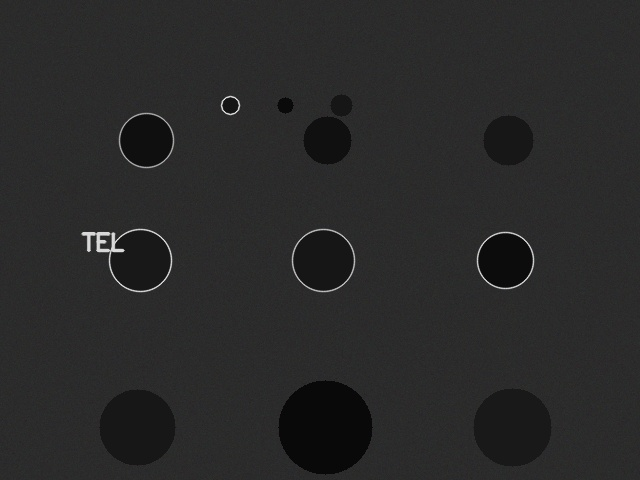hole: (278, 380, 372, 474), (473, 388, 551, 466), (99, 389, 175, 465), (109, 229, 171, 291), (292, 229, 354, 291), (477, 232, 533, 288), (119, 113, 173, 167), (483, 115, 533, 165), (303, 116, 351, 164), (330, 94, 352, 116), (221, 96, 239, 114), (277, 97, 293, 113)
